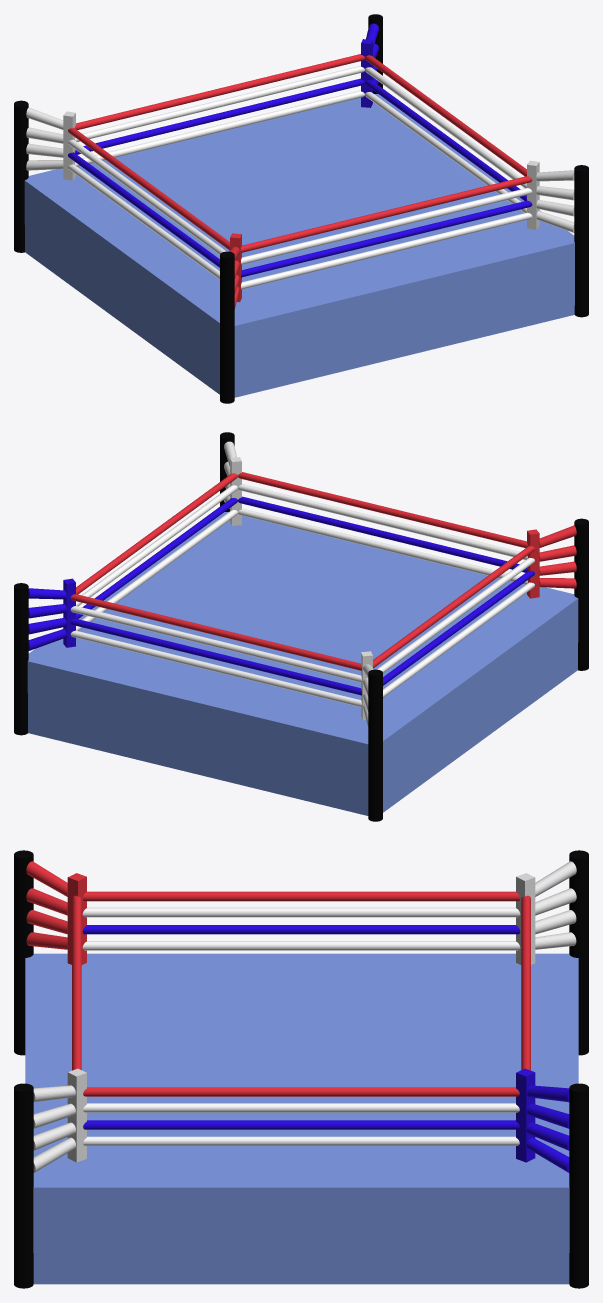
Rendered from ringFinal.fbx.
3 views of the same model, one above another, from view 1: azimuth 30°, elevation 25°; view 2: azimuth 150°, elevation 25°; view 3: azimuth 270°, elevation 25° (orthographic). The views are drawn at different scales.
Visible parts, largest first — view 1: Cube, Stlp.002, Stlp, Stlp.003, Cylinder.003, Cylinder.004, Cylinder.005, Cylinder.014, Cylinder, Cylinder.015, Cylinder.001, Cylinder.002 (+9 smaller); view 2: Cube, Stlp.001, Stlp.003, Stlp, Cylinder.001, Cylinder.002, Cylinder, Cylinder.015, Cylinder.005, Cylinder.014, Cylinder.004, Cylinder.003 (+9 smaller); view 3: Cube, Stlp.001, Stlp.002, Stlp.003, Stlp, Cylinder.009, Cylinder.012, Cylinder.010, Cylinder.011, Cylinder.008, Cylinder.013, Cylinder.006 (+3 smaller).
Boxes of the visible parts, box(x1,y1,x2,y2) form: Cube: box(24, 94, 574, 397); Stlp.002: box(527, 160, 588, 317); Stlp: box(14, 100, 75, 252); Stlp.003: box(220, 233, 241, 403); Cylinder.003: box(241, 212, 532, 289); Cylinder.004: box(241, 200, 532, 277); Cylinder.005: box(241, 176, 532, 252); Cylinder.014: box(241, 188, 532, 264); Cylinder: box(75, 54, 364, 130); Cylinder.015: box(75, 66, 364, 141); Cylinder.001: box(75, 78, 364, 154); Cylinder.002: box(75, 90, 364, 166); Cube: box(27, 512, 578, 815); Stlp.001: box(14, 578, 75, 735); Stlp.003: box(527, 518, 588, 670); Stlp: box(361, 651, 382, 821); Cylinder.001: box(70, 618, 361, 695); Cylinder.002: box(70, 630, 361, 707); Cylinder: box(70, 594, 361, 670); Cylinder.015: box(70, 606, 361, 682); Cylinder.005: box(238, 472, 527, 548); Cylinder.014: box(238, 484, 527, 559); Cylinder.004: box(238, 496, 527, 572); Cylinder.003: box(238, 508, 527, 584); Cube: box(25, 953, 578, 1284); Stlp.001: box(516, 1068, 588, 1288); Stlp.002: box(14, 1068, 86, 1288); Stlp.003: box(14, 850, 86, 1055); Stlp: box(516, 850, 588, 1055); Cylinder.009: box(82, 891, 520, 901); Cylinder.012: box(82, 907, 520, 917); Cylinder.010: box(82, 925, 520, 934); Cylinder.011: box(82, 941, 520, 950); Cylinder.008: box(83, 1087, 519, 1096); Cylinder.013: box(83, 1103, 519, 1112); Cylinder.006: box(83, 1136, 519, 1145).
Bounding box in the file's own units: 3294 × 1252 × 3317.
